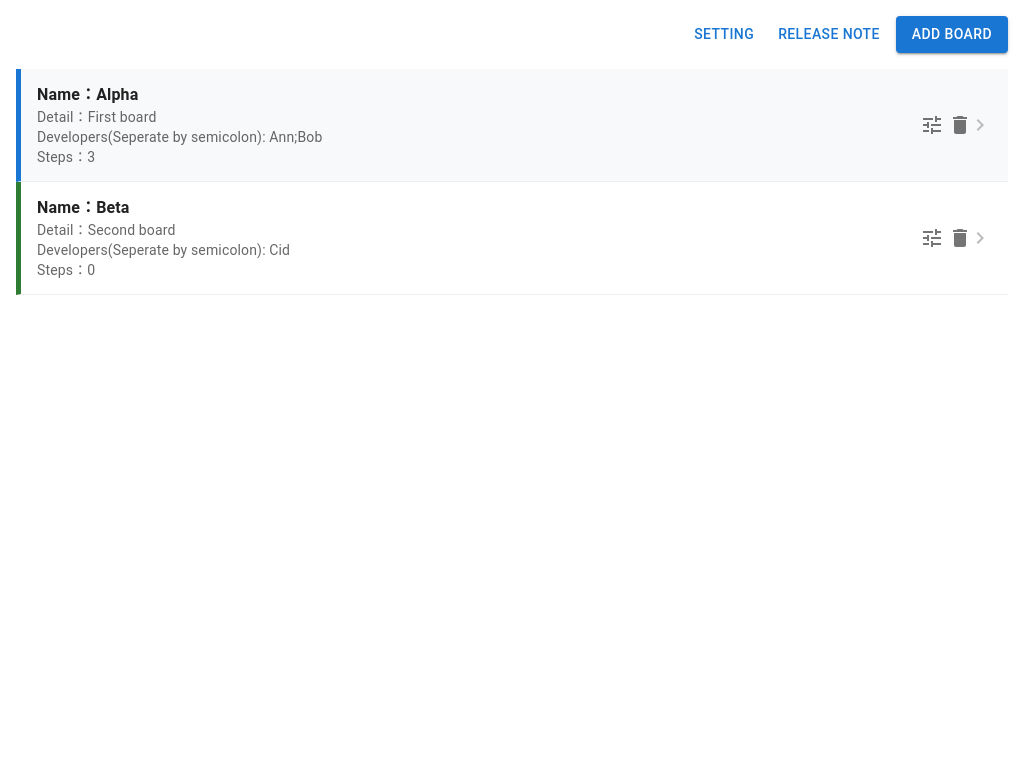
Test: delete flow confirms, records DELETE /api/boards/{id} then refetches the list
Click the button with test id "board-row-delete-b-1".
click(960, 124)  # box [940,104,980,144]
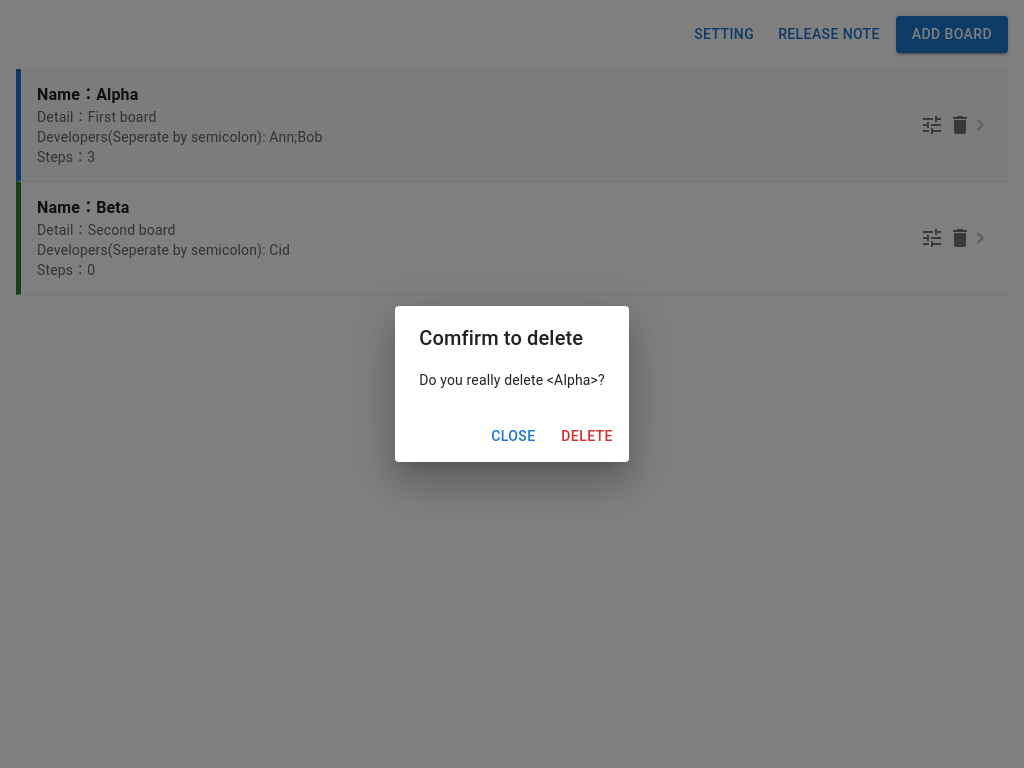
Check: the heading "Comfirm to delete" is shown, box [419,326,583,350]
Check: the text "Do you really delete <Alpha>?" is shown, box [419,370,605,390]
Click the button with test id "confirm-delete-button".
click(587, 436)  # box [553,418,621,454]
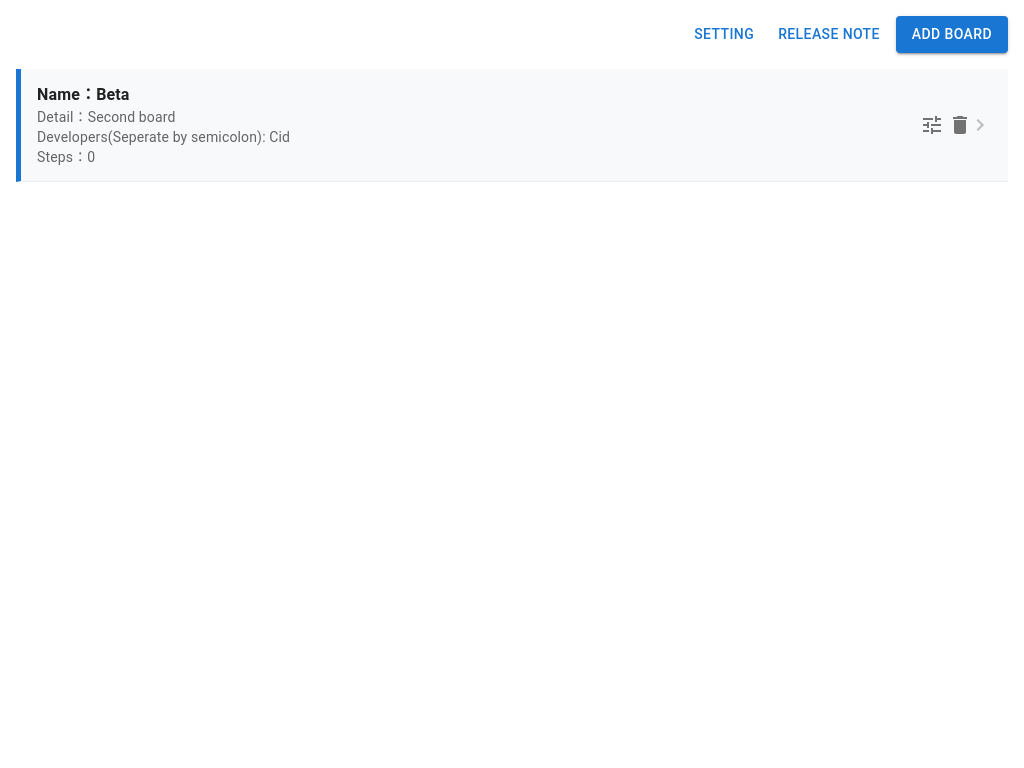
Check: the list item with test id "board-row-b-2" is shown, box [16,68,1008,182]
Check: the list item with test id "board-row-b-1" is gone
